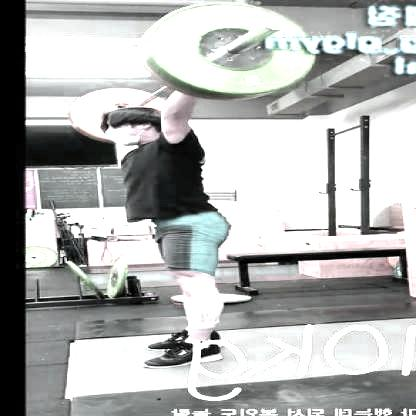Barbell: (255, 18, 287, 35)
